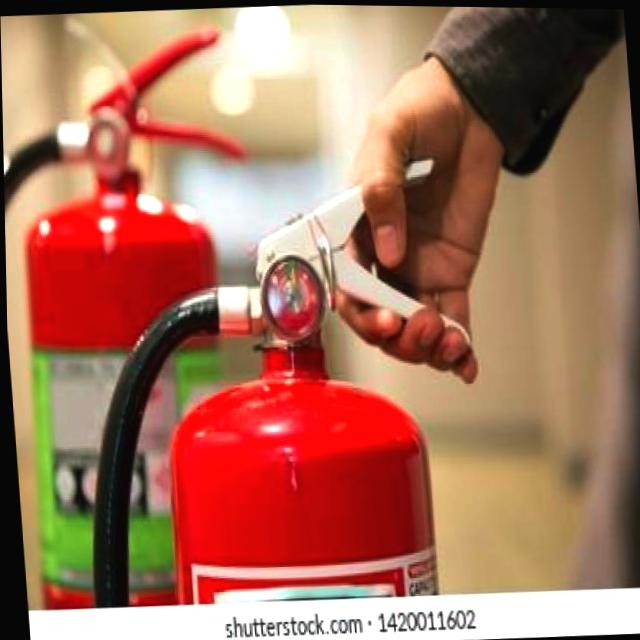FireExtinguisher: (54, 144, 490, 614), (0, 16, 281, 613)
